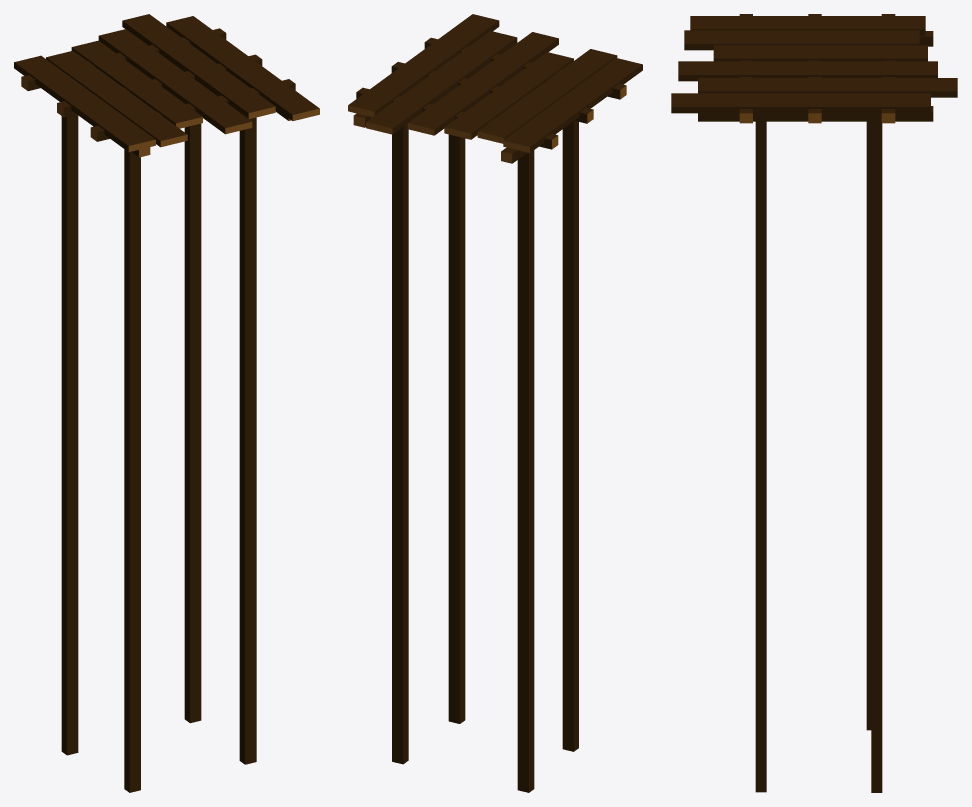
Rendered from FBX_ESTRADE.fbx.
The picture shows the model from 3 angles, left to right: view 1: azimuth 30°, elevation 25°; view 2: azimuth 150°, elevation 25°; view 3: azimuth 270°, elevation 25°; orthographic projection. The views are drawn at different scales.
Visible parts, largest first — view 1: ESTRADE1; view 2: ESTRADE1; view 3: ESTRADE1.
Part boxes in pixels (x1,y1,x2,y2): ESTRADE1: [14, 14, 319, 792]; ESTRADE1: [348, 14, 642, 792]; ESTRADE1: [671, 14, 957, 792].
Size of the model in its own units: 133 by 433 by 161.
